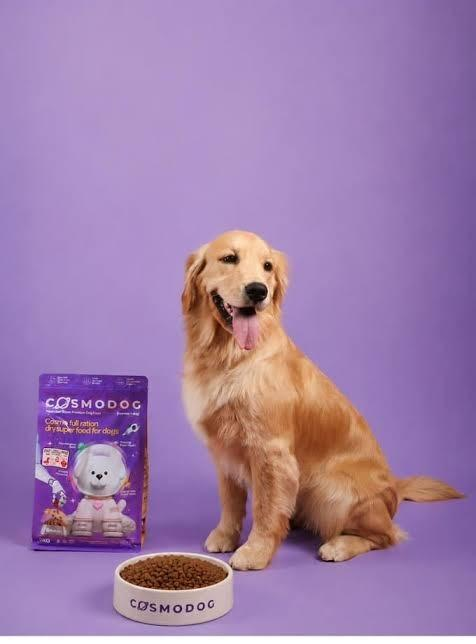adult_dog: (178, 226, 469, 571)
